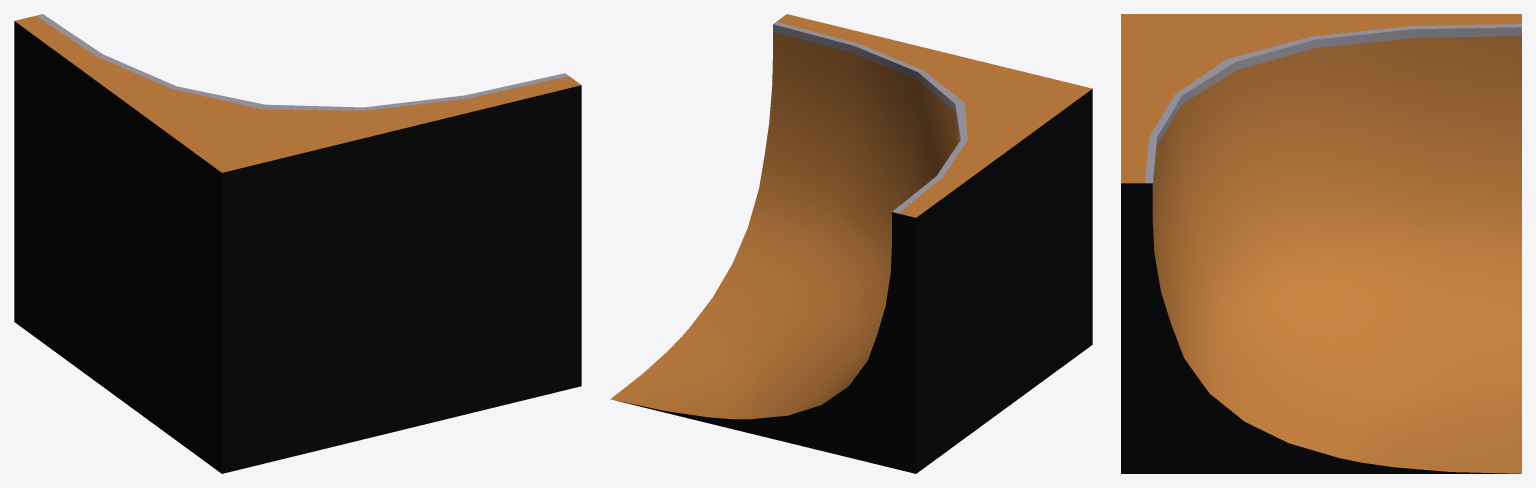
Rendered from Quater_LRG_HighVert_Corner1.obj.
The picture shows the model from 3 angles, left to right: view 1: azimuth 30°, elevation 25°; view 2: azimuth 150°, elevation 25°; view 3: azimuth 270°, elevation 25°; orthographic projection. The views are drawn at different scales.
Parts seen in each view (by area): view 1: Quater_SML_HighVert_Corner Quater_LRG_HighVert_Corner1; view 2: Quater_SML_HighVert_Corner Quater_LRG_HighVert_Corner1; view 3: Quater_SML_HighVert_Corner Quater_LRG_HighVert_Corner1.
Boxes of the visible parts, left/top/right/bottom form: Quater_SML_HighVert_Corner Quater_LRG_HighVert_Corner1: left=14, top=14, right=581, bottom=473; Quater_SML_HighVert_Corner Quater_LRG_HighVert_Corner1: left=610, top=14, right=1092, bottom=473; Quater_SML_HighVert_Corner Quater_LRG_HighVert_Corner1: left=1121, top=14, right=1521, bottom=473.
Size of the model in its own units: 20 by 16 by 20.
